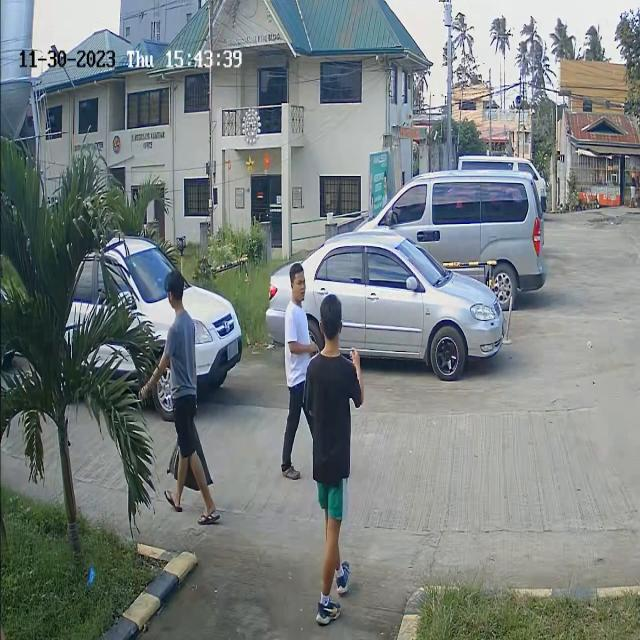person: (305, 293, 363, 403), (158, 271, 205, 392), (277, 251, 315, 357)
